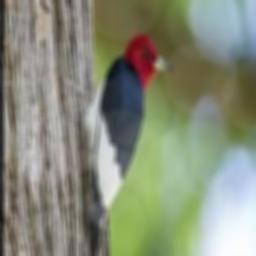Woodpecker: (72, 33, 174, 256)
